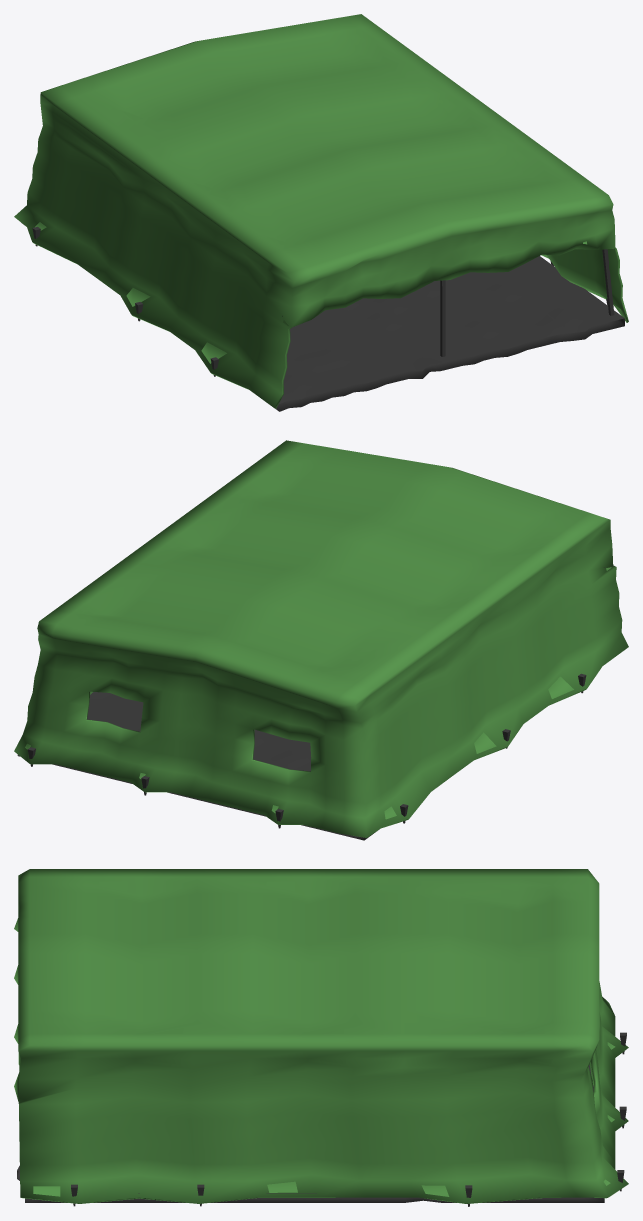
File: Apocalipse Z - CABANA_3.fbx
3 views of the same model, one above another, from view 1: azimuth 30°, elevation 25°; view 2: azimuth 150°, elevation 25°; view 3: azimuth 270°, elevation 25° (orthographic). The views are drawn at different scales.
Visible parts, largest first — view 1: Plane.002; view 2: Plane.002; view 3: Plane.002.
Part boxes in pixels (x1,y1,x2,y2): Plane.002: (14,14,628,411); Plane.002: (14,440,628,840); Plane.002: (14,869,628,1206).
Size of the model in its own units: 1150 by 426 by 1444.
